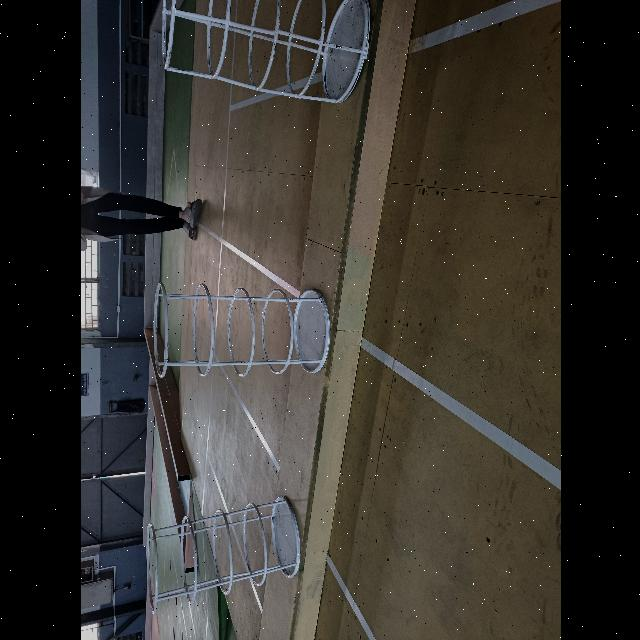S: (154, 0, 372, 107), (140, 489, 305, 616), (143, 276, 333, 381)
